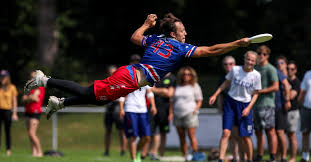disc: (248, 32, 274, 45)
